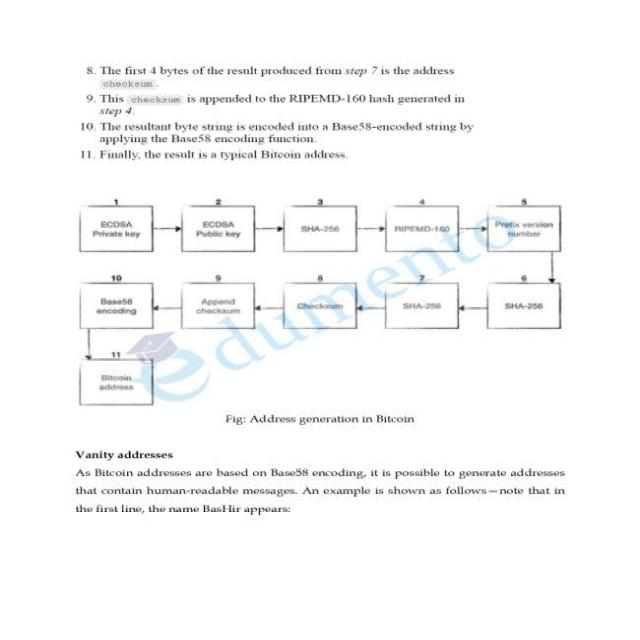Figure Detection - v3 Dataset Version2: (51, 185, 584, 408)
